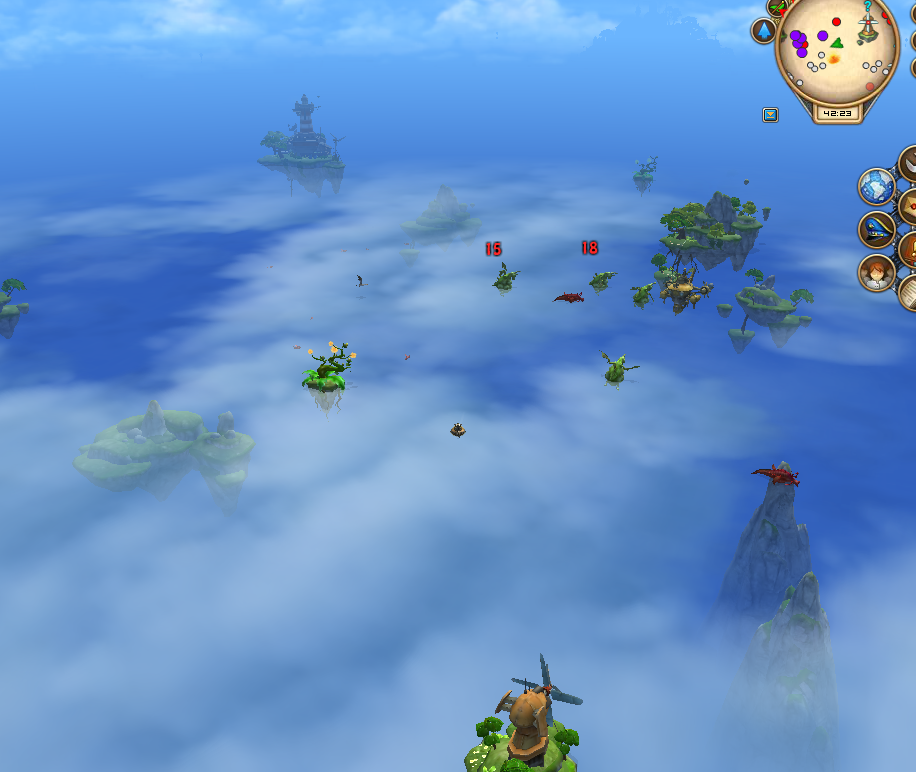dandelion-full: (297, 338, 357, 418), (631, 152, 660, 194)
